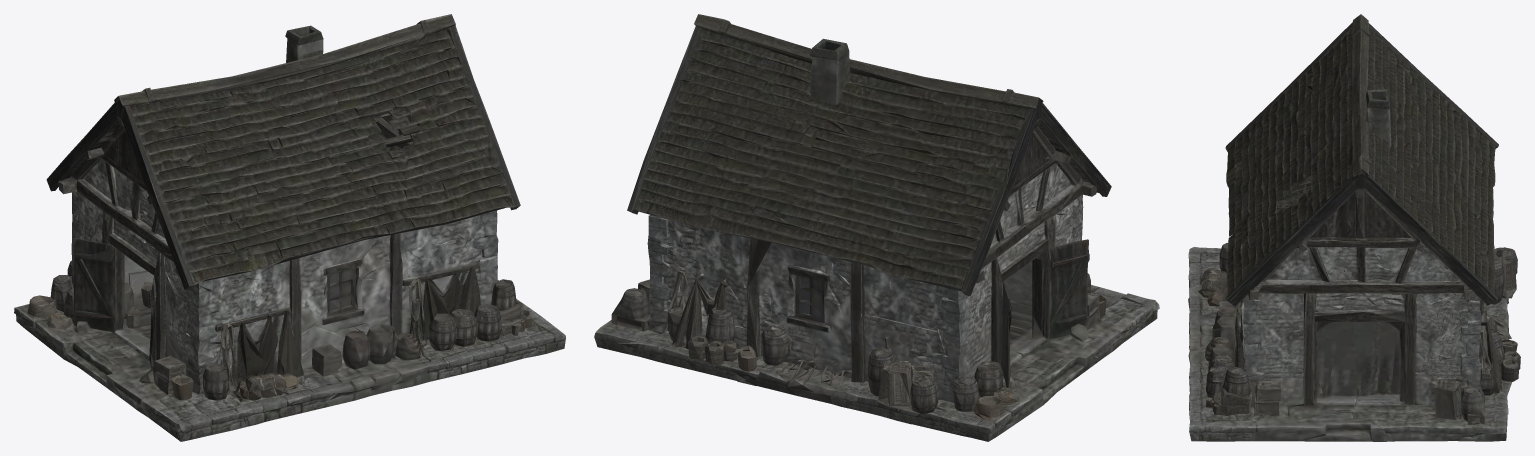
The model's file is traskhall.glb.
3 views of the same model, side by side, from view 1: azimuth 30°, elevation 25°; view 2: azimuth 150°, elevation 25°; view 3: azimuth 270°, elevation 25° (orthographic). The views are drawn at different scales.
Parts seen in each view (by area): view 1: traskhall-centred; view 2: traskhall-centred; view 3: traskhall-centred.
Part boxes in pixels (bbox=[...]): traskhall-centred: bbox=[14, 14, 565, 441]; traskhall-centred: bbox=[594, 14, 1159, 441]; traskhall-centred: bbox=[1188, 14, 1520, 441].
Bounding box in the file's own units: 18 × 12.62 × 14.01.
1 material, 1 textured.
